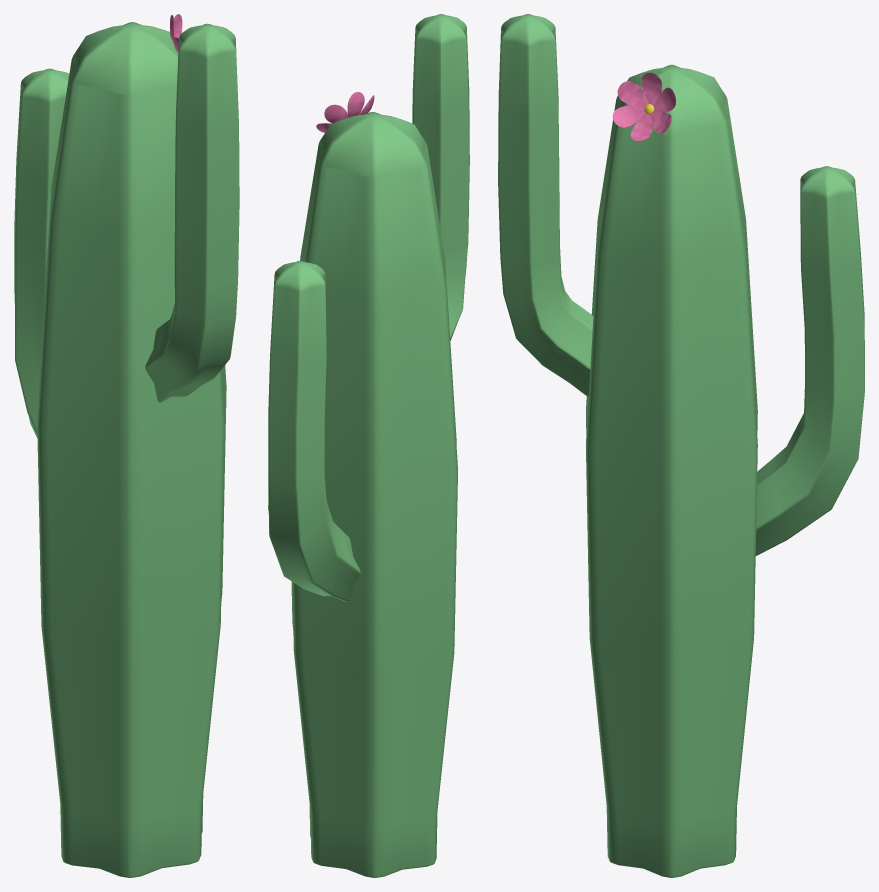
File: Cactus_2.fbx
The picture shows the model from 3 angles, left to right: view 1: azimuth 30°, elevation 25°; view 2: azimuth 150°, elevation 25°; view 3: azimuth 270°, elevation 25°; orthographic projection. The views are drawn at different scales.
Parts seen in each view (by area): view 1: cactus_1; view 2: cactus_1; view 3: cactus_1.
Boxes of the visible parts, box(x1,y1,x2,y2) form: cactus_1: box(14, 14, 239, 877); cactus_1: box(268, 14, 469, 877); cactus_1: box(498, 14, 864, 877).
Size of the model in its own units: 37.71 by 171 by 68.23.
